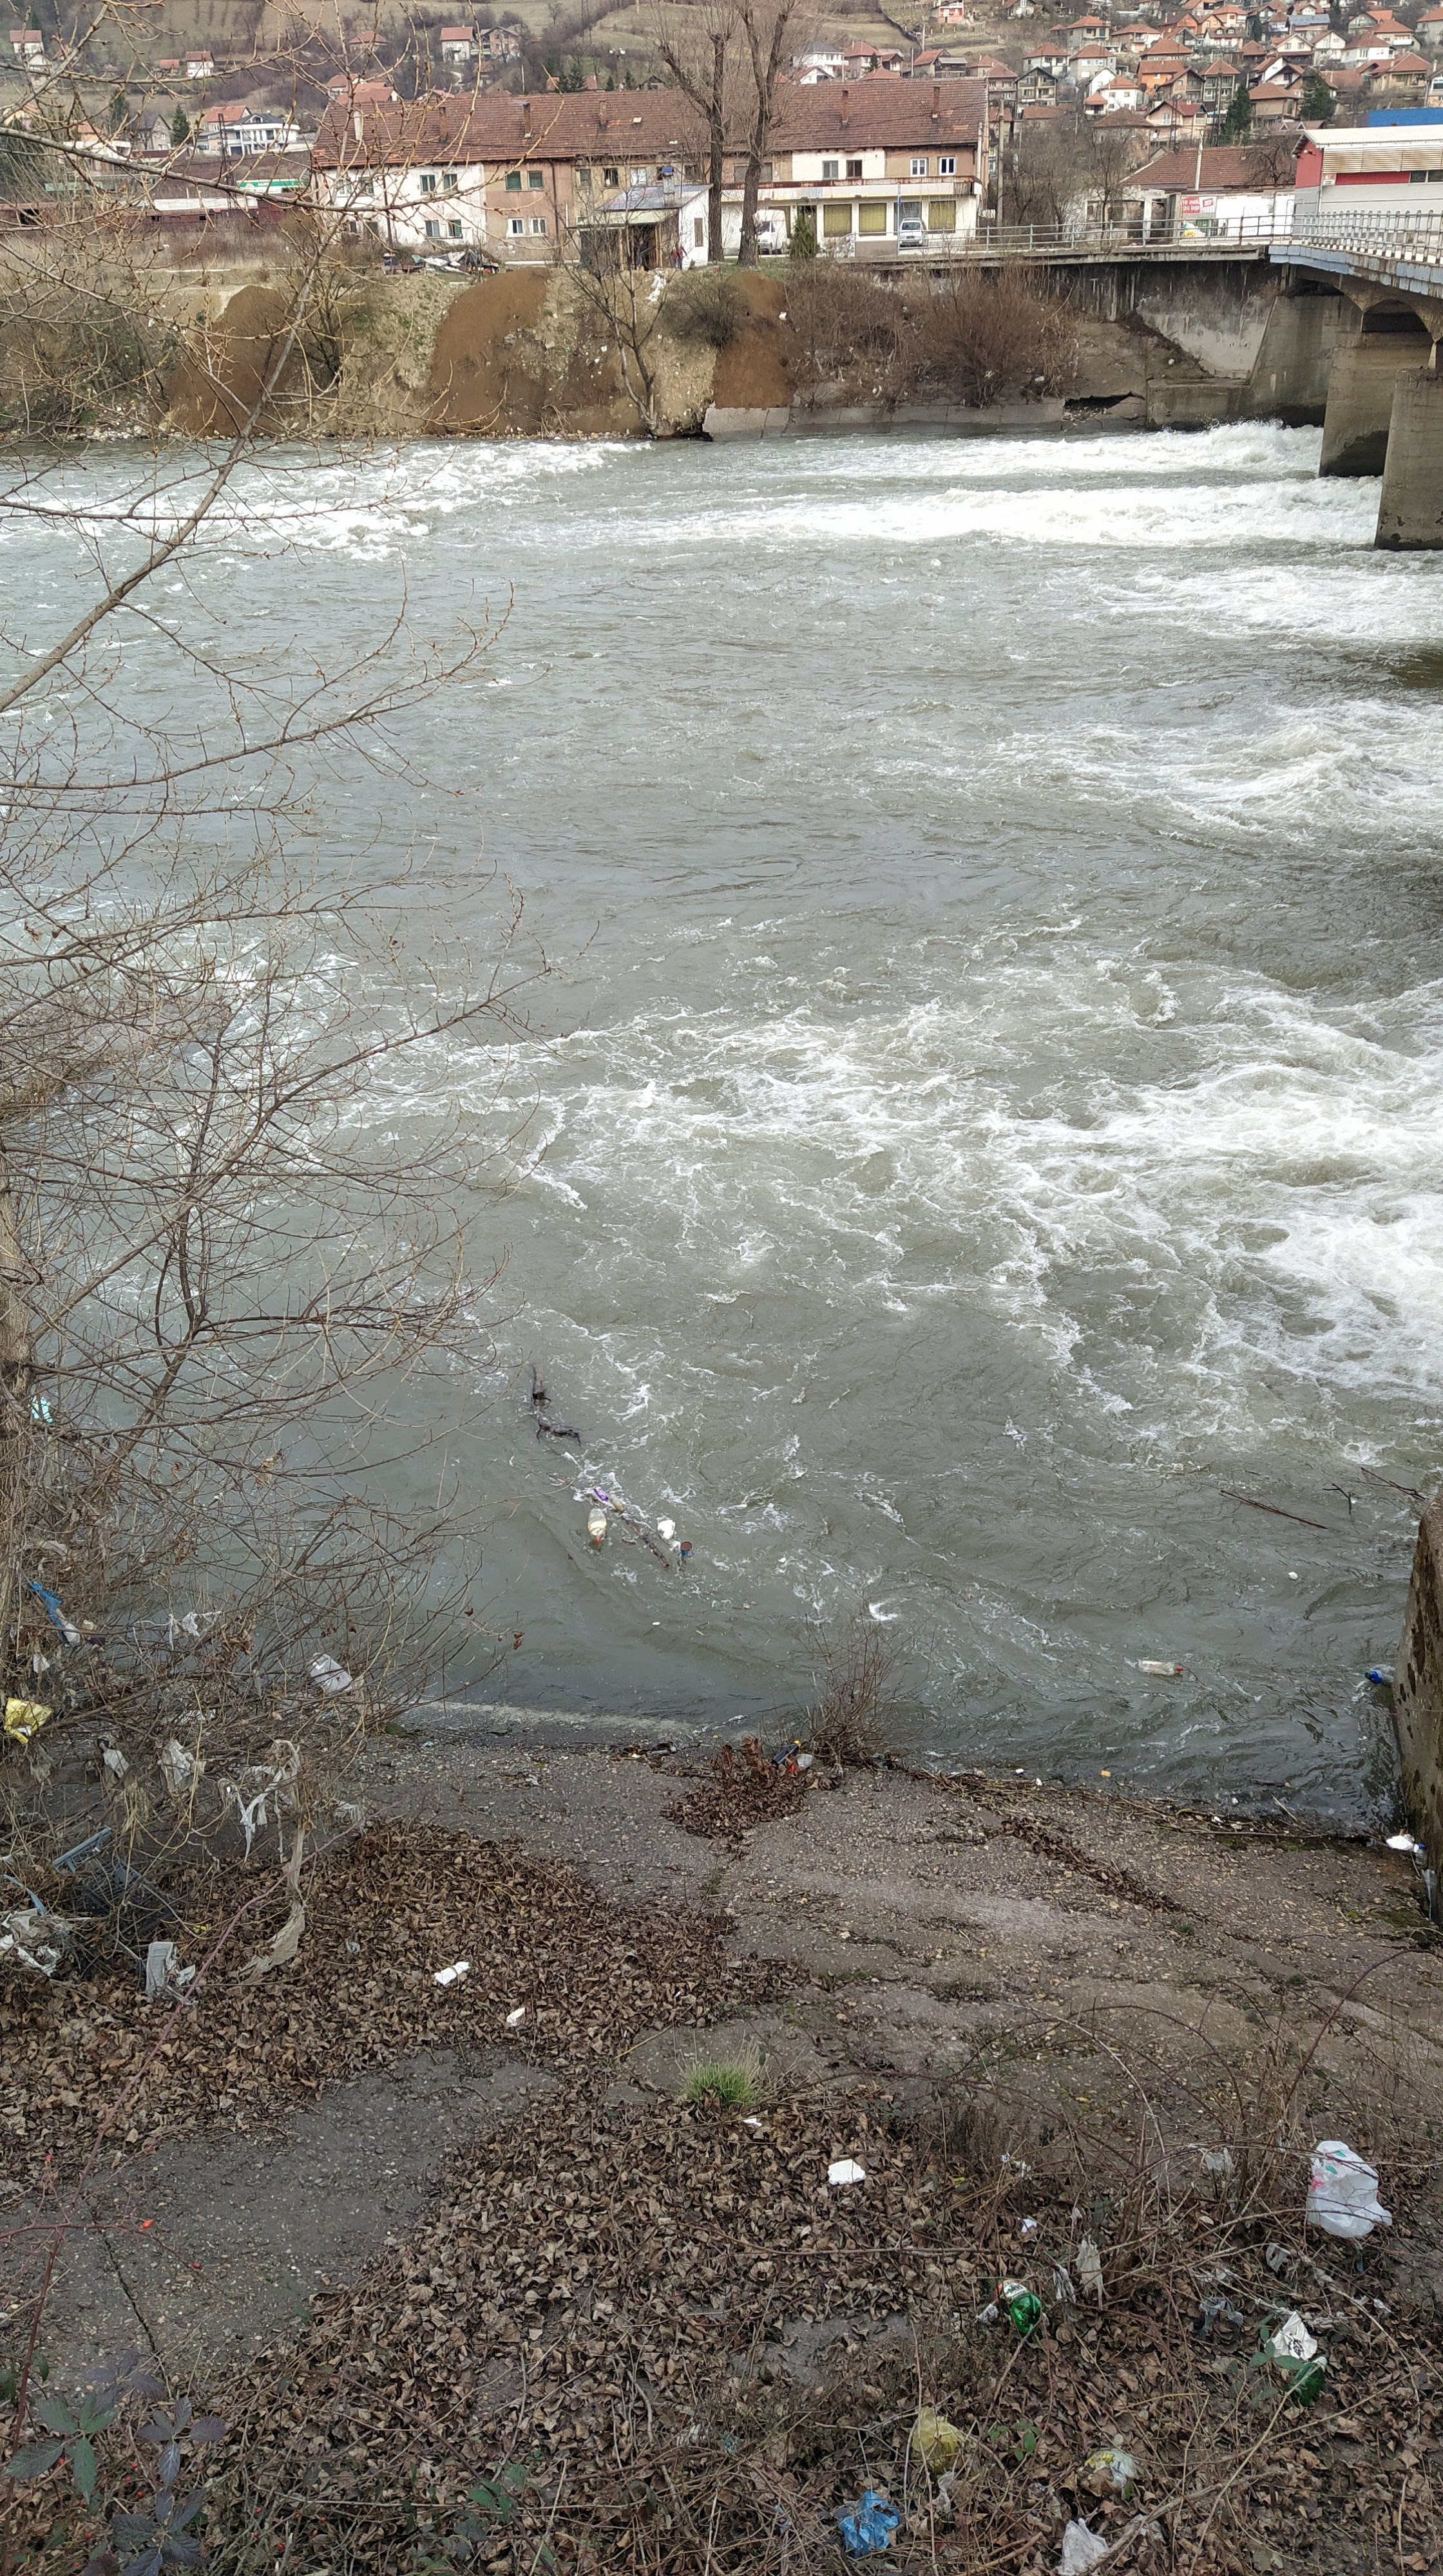Plastic Bottle: (586, 1506, 606, 1543), (1138, 1660, 1183, 1675), (1365, 1670, 1393, 1686), (595, 1486, 607, 1500)
